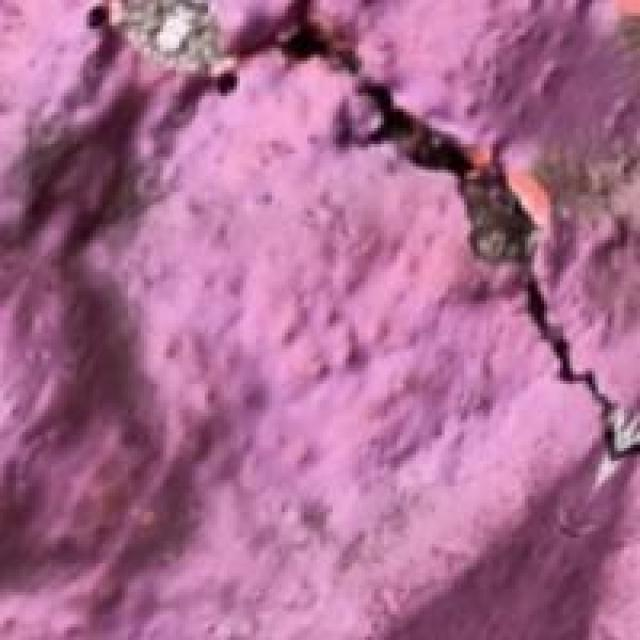crack: (256, 13, 637, 480)
